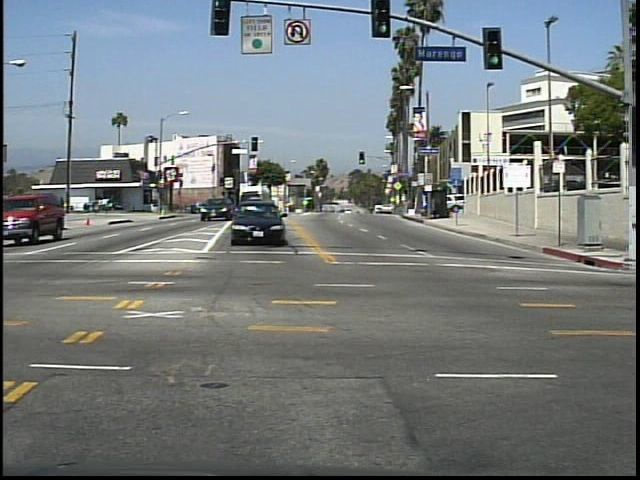person: (55, 192, 71, 220)
